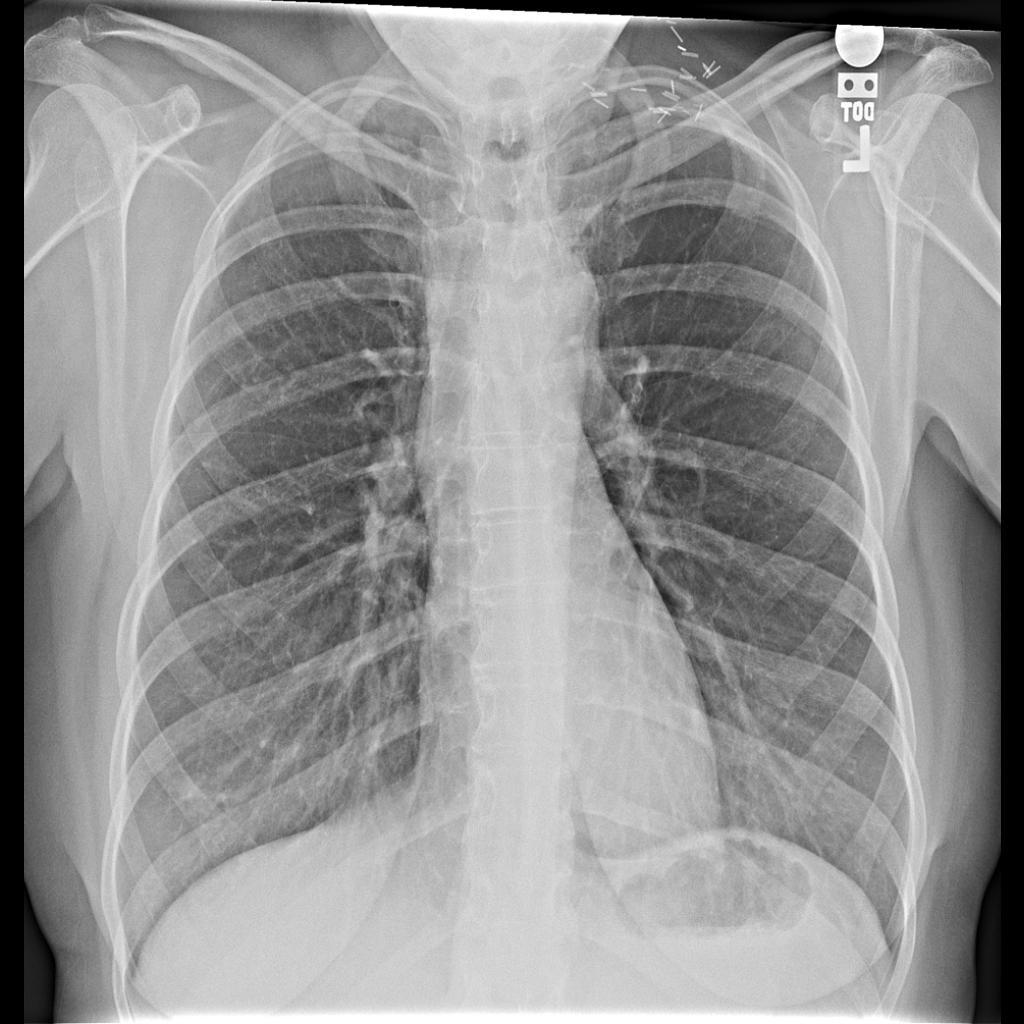Nodule: (180, 768, 233, 815)
